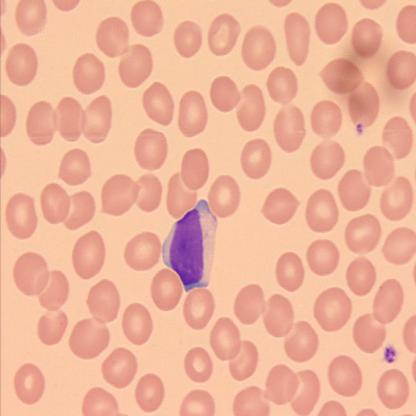Atypical lymphocyte: (160, 198, 218, 290)
